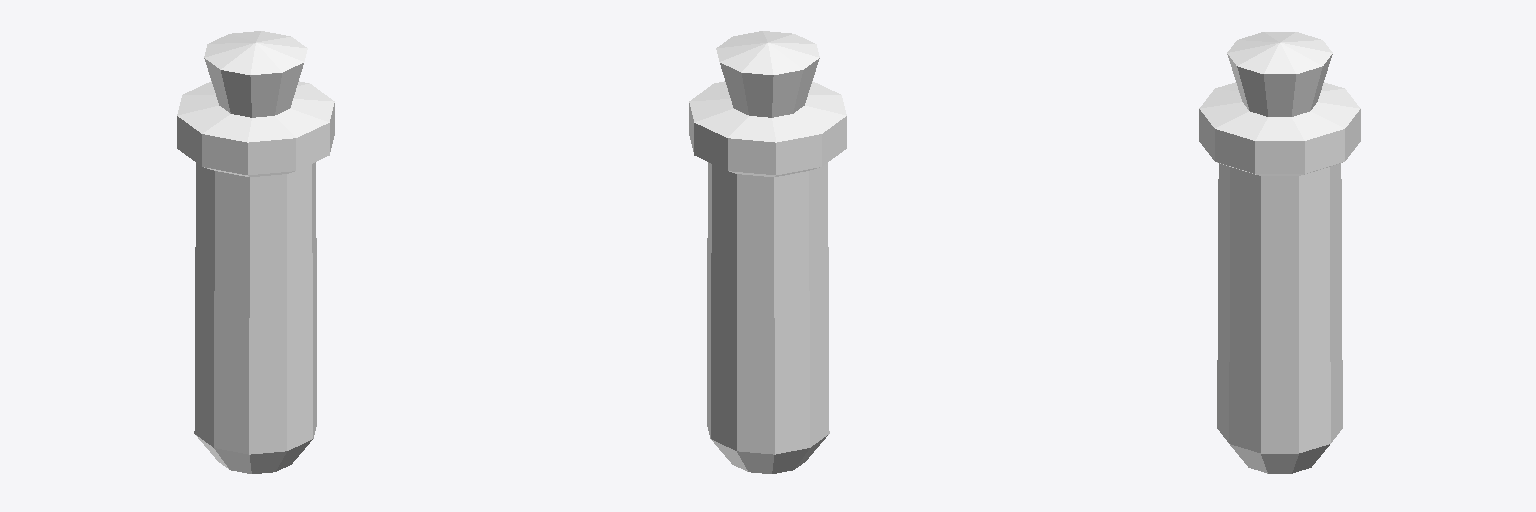
Rendered from potion_small_green.obj.
The picture shows the model from 3 angles: view 1: azimuth 30°, elevation 25°; view 2: azimuth 150°, elevation 25°; view 3: azimuth 270°, elevation 25°; orthographic projection.
Parts seen in each view (by area): view 1: potion_small_green; view 2: potion_small_green; view 3: potion_small_green.
Part boxes in pixels (x1,y1,x2,y2): potion_small_green: (177, 31, 334, 473); potion_small_green: (689, 31, 846, 473); potion_small_green: (1199, 32, 1360, 473).
Size of the model in its own units: 0.1512 by 0.464 by 0.1589.